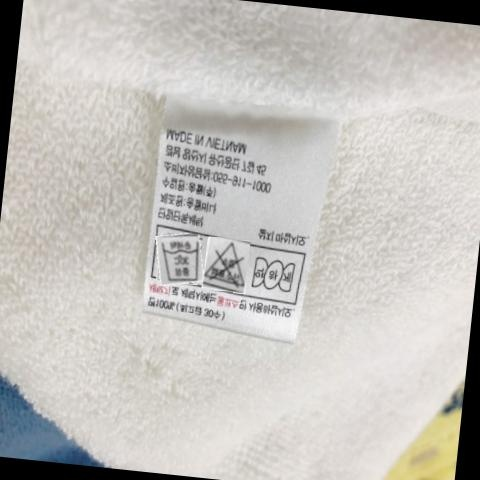DN_bleach: (200, 243, 247, 290)
hand_wash: (152, 236, 200, 282)
wring: (248, 253, 303, 295)
